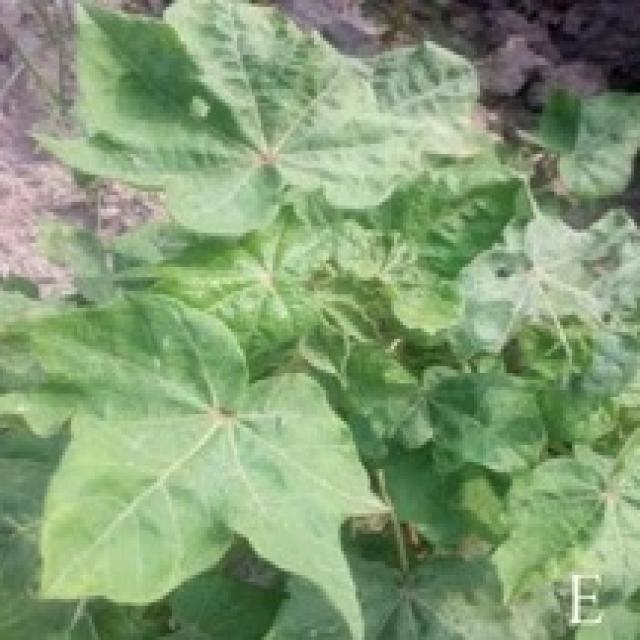Leaf Curl Virus: (179, 84, 519, 607)
